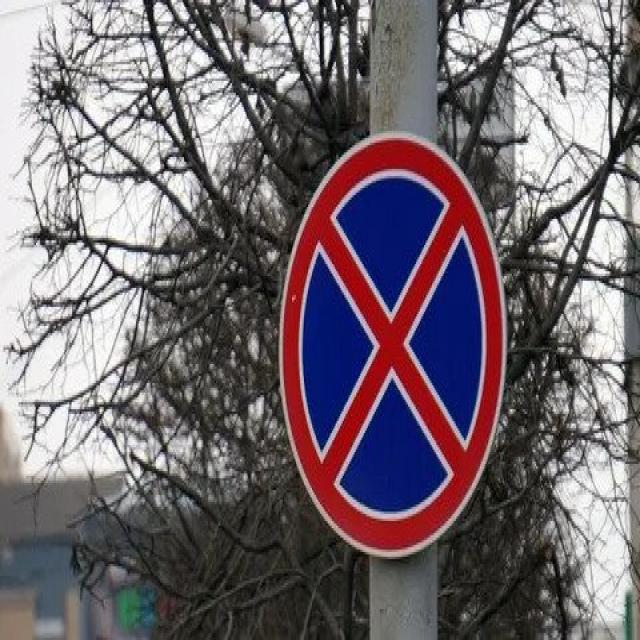no stopping: (270, 128, 510, 569)
